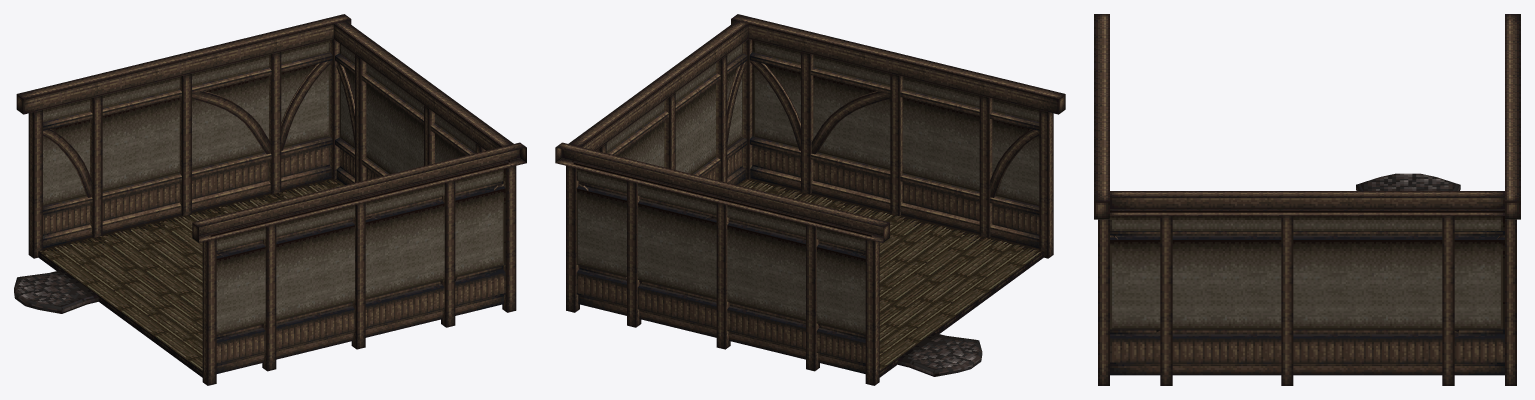
File: EnvBdgMD_Mount_A_Indoor_House_A.FBX
3 views of the same model, side by side, from view 1: azimuth 30°, elevation 25°; view 2: azimuth 150°, elevation 25°; view 3: azimuth 270°, elevation 25° (orthographic). The views are drawn at different scales.
Visible parts, largest first — view 1: EnvBdgMD_Mount_A_Indoor_House_A; view 2: EnvBdgMD_Mount_A_Indoor_House_A; view 3: EnvBdgMD_Mount_A_Indoor_House_A.
Boxes of the visible parts, box(x1,y1,x2,y2) form: EnvBdgMD_Mount_A_Indoor_House_A: box(14, 14, 526, 385); EnvBdgMD_Mount_A_Indoor_House_A: box(555, 14, 1065, 385); EnvBdgMD_Mount_A_Indoor_House_A: box(1094, 14, 1520, 385).
Bounding box in the file's own units: 1250 × 520 × 1060.
1 material, 1 textured.
